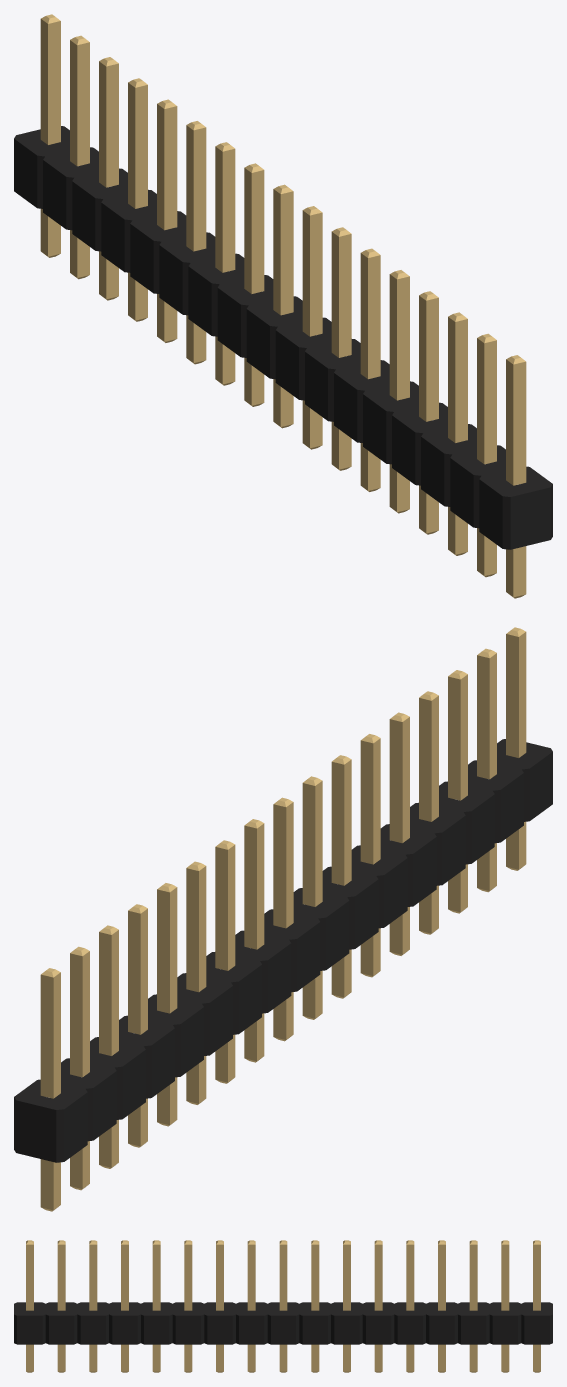
Rendered from kc-pinheader_1x17_p2.54mm_vertical.glb.
3 renders of one model, top to bottom at view 1: azimuth 30°, elevation 25°; view 2: azimuth 150°, elevation 25°; view 3: azimuth 270°, elevation 25°, orthographic. The views are drawn at different scales.
Parts seen in each view (by area): view 1: 0.75_0.5_0.25_0.9, 0_0_0_0; view 2: 0.75_0.5_0.25_0.9, 0_0_0_0; view 3: 0_0_0_0, 0.75_0.5_0.25_0.9.
Part boxes in pixels (x1=…): 0.75_0.5_0.25_0.9: x1=40, y1=14, x2=526, y2=598; 0_0_0_0: x1=14, y1=126, x2=552, y2=549; 0.75_0.5_0.25_0.9: x1=40, y1=627, x2=526, y2=1211; 0_0_0_0: x1=14, y1=739, x2=552, y2=1162; 0_0_0_0: x1=14, y1=1302, x2=552, y2=1344; 0.75_0.5_0.25_0.9: x1=26, y1=1240, x2=540, y2=1372.
Bounding box in the file's own units: 0.2541 × 1.15 × 4.32.
